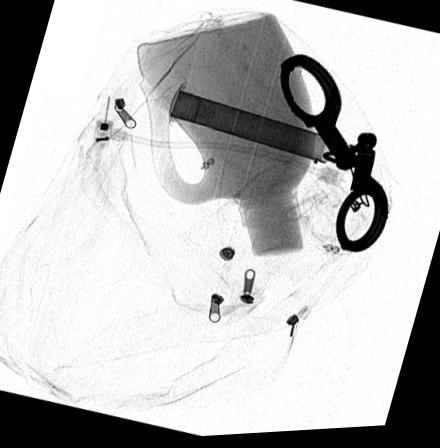HandCuffs: (279, 56, 388, 256)
